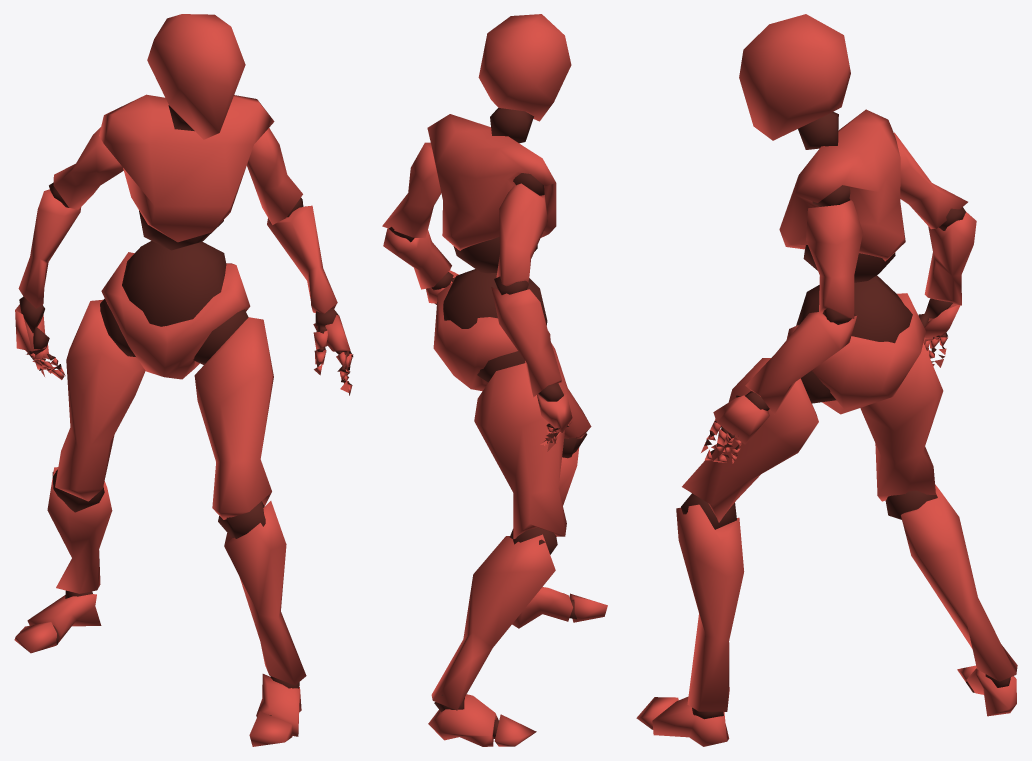
3 renders of one model, left to right at view 1: azimuth 30°, elevation 25°; view 2: azimuth 150°, elevation 25°; view 3: azimuth 270°, elevation 25°, orthographic. The views are drawn at different scales.
Visible parts, largest first — view 1: Beta_Surface; view 2: Beta_Surface; view 3: Beta_Surface.
Part boxes in pixels (box(x1,y1,x2,y2)): Beta_Surface: box(14, 14, 353, 746); Beta_Surface: box(382, 14, 607, 746); Beta_Surface: box(636, 14, 1017, 746).
Size of the model in its own units: 5.37 by 14.63 by 7.2.
